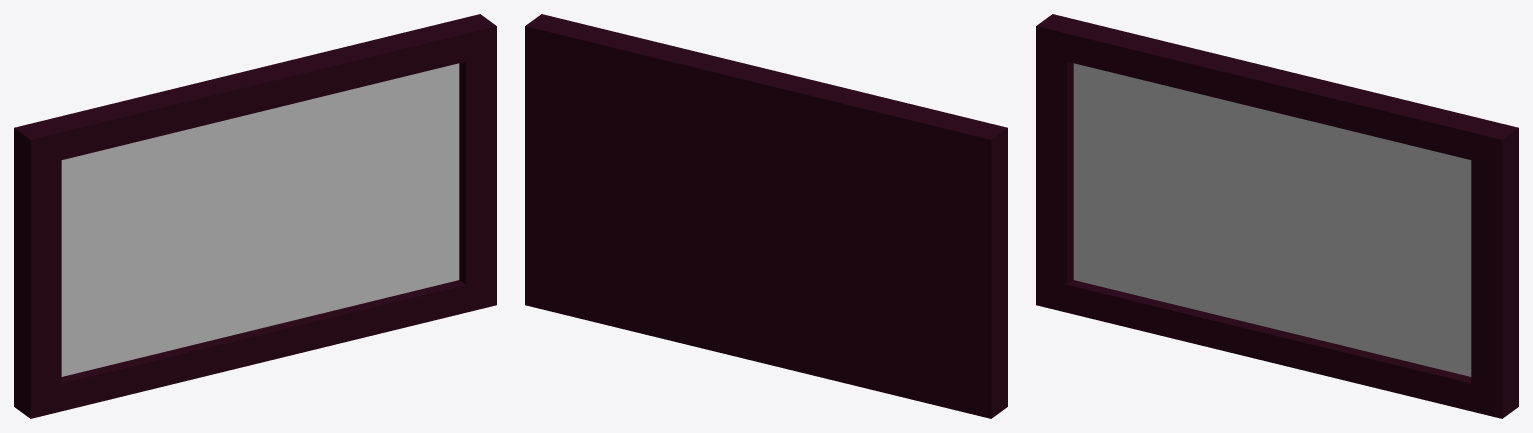
File: Potrait_Fusia.fbx
The picture shows the model from 3 angles, left to right: view 1: azimuth 30°, elevation 25°; view 2: azimuth 150°, elevation 25°; view 3: azimuth 330°, elevation 25°; orthographic projection.
Parts seen in each view (by area): view 1: Box004; view 2: Box004; view 3: Box004.
Boxes of the visible parts, bbox=[...] form: Box004: bbox=[14, 14, 496, 418]; Box004: bbox=[525, 14, 1007, 418]; Box004: bbox=[1036, 14, 1518, 418].
Size of the model in its own units: 26.42 by 15.11 by 1.63.
